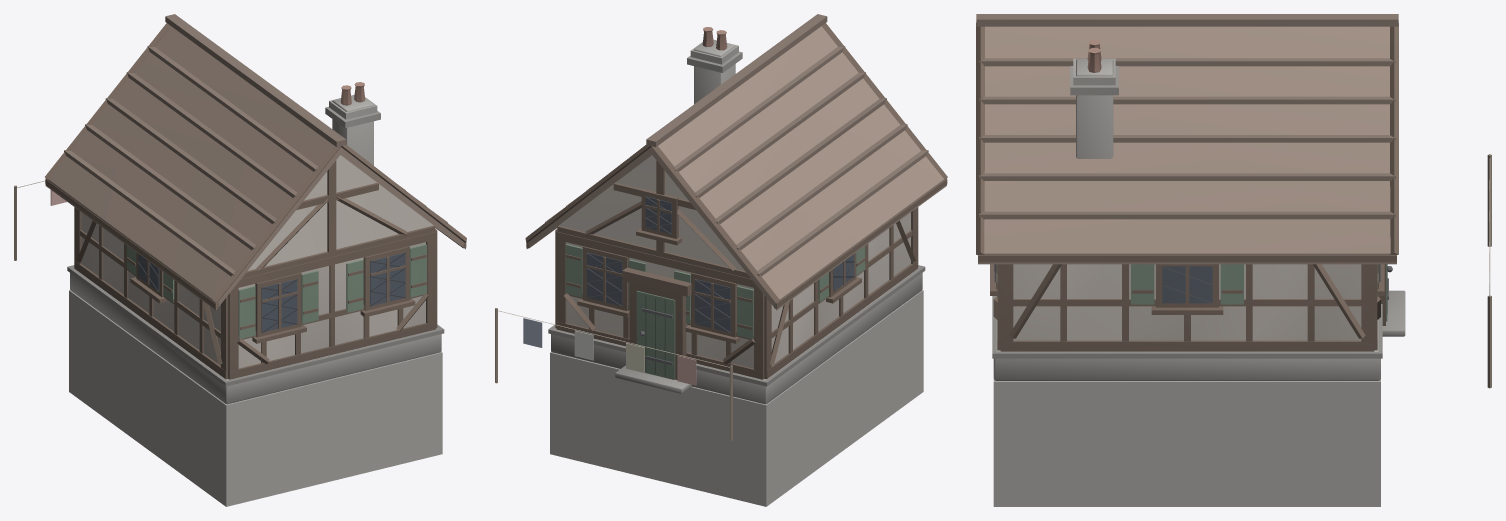
The model's file is house_2_2.gltf.
3 renders of one model, left to right at view 1: azimuth 30°, elevation 25°; view 2: azimuth 150°, elevation 25°; view 3: azimuth 270°, elevation 25°, orthographic. The views are drawn at different scales.
Visible parts, largest first — view 1: Body; view 2: Body; view 3: Body.
Part boxes in pixels (x1,y1,x2,y2): Body: [14, 14, 466, 506]; Body: [495, 14, 947, 506]; Body: [976, 14, 1491, 506].
Bounding box in the file's own units: 6.82 × 8.97 × 9.72.
